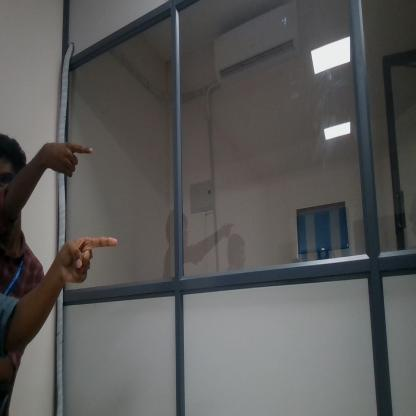Left: (55, 228, 121, 299), (46, 118, 96, 184)
